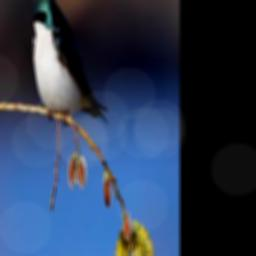Swallow: (28, 0, 108, 123)
